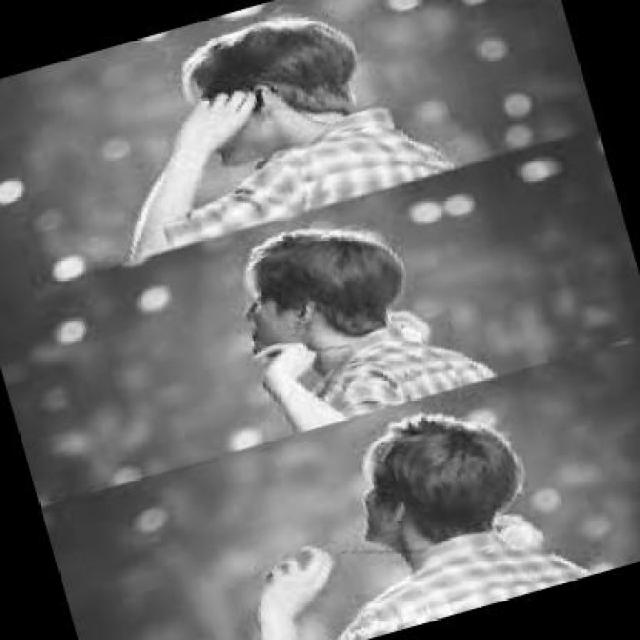earphone: (250, 77, 271, 125), (295, 291, 311, 333)
